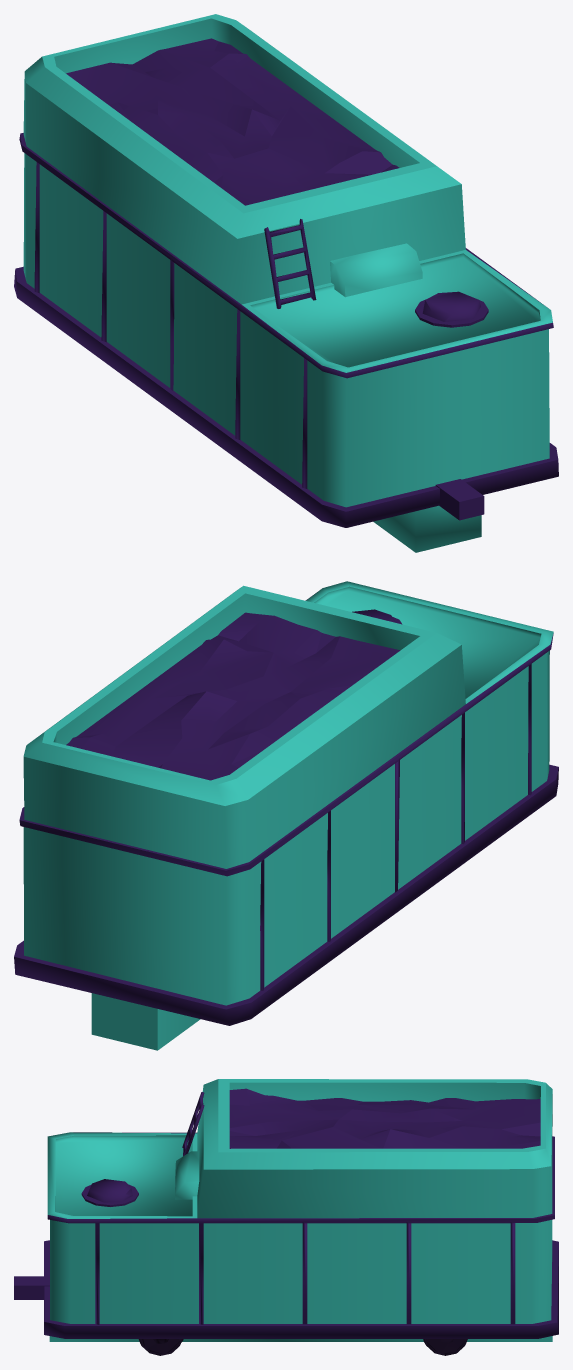
File: kiddie-tender.glb
3 views of the same model, one above another, from view 1: azimuth 30°, elevation 25°; view 2: azimuth 150°, elevation 25°; view 3: azimuth 270°, elevation 25° (orthographic). The views are drawn at different scales.
Visible parts, largest first — view 1: BackWheels; view 2: BackWheels; view 3: BackWheels.
Boxes of the visible parts, x1,y1,x2,y2 form: BackWheels: (14,14,558,552); BackWheels: (14,581,558,1050); BackWheels: (14,1079,558,1355).
Size of the model in its own units: 2.01 by 2.35 by 5.21.
